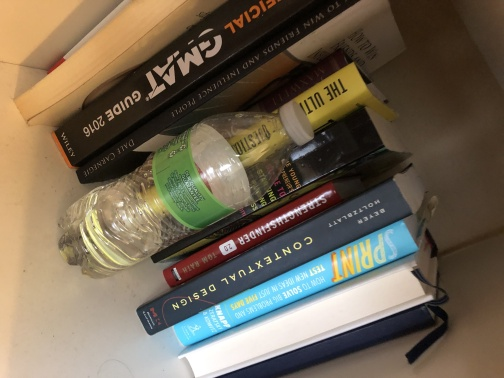bottle: (56, 97, 315, 282)
